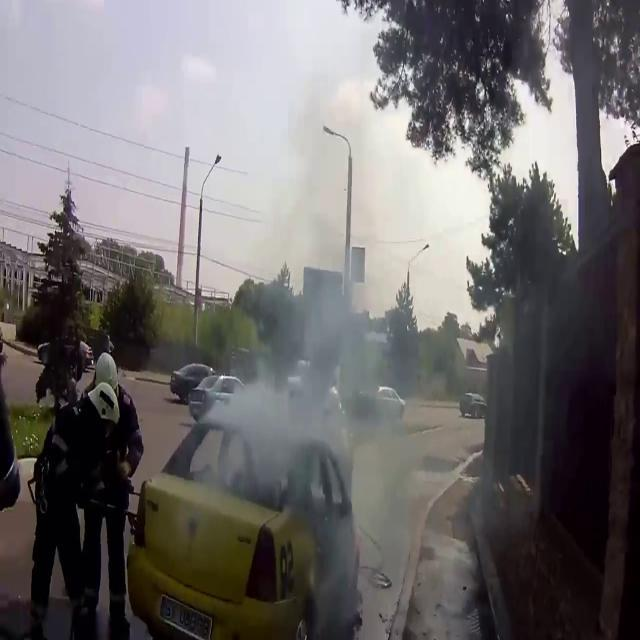Smoke: (214, 209, 504, 616)
